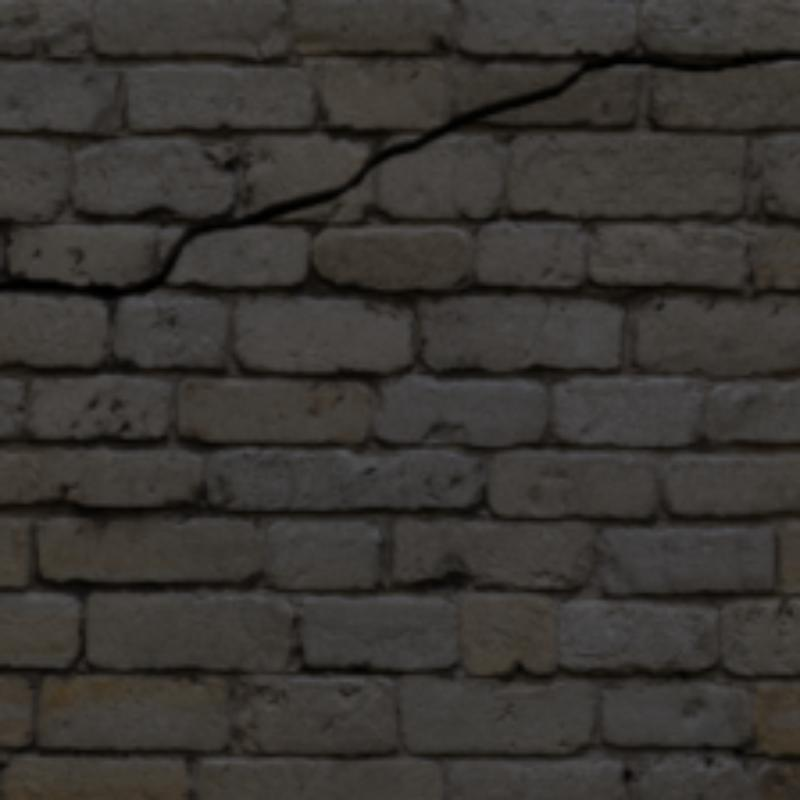pothole: (0, 50, 796, 296)
